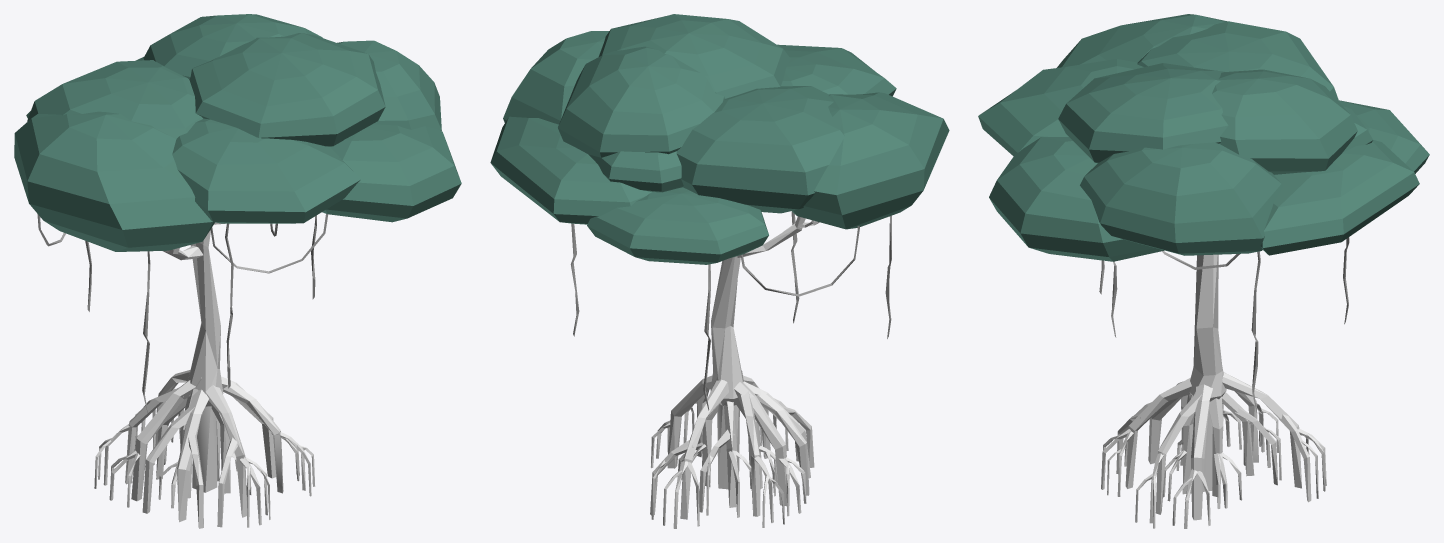
File: arvoreMangueReduzida (1).fbx
The picture shows the model from 3 angles, left to right: view 1: azimuth 30°, elevation 25°; view 2: azimuth 150°, elevation 25°; view 3: azimuth 270°, elevation 25°; orthographic projection. The views are drawn at different scales.
Parts seen in each view (by area): view 1: copa_geo, tronco_geo, raizes_goe, cipo_geo; view 2: copa_geo, tronco_geo, raizes_goe, cipo_geo; view 3: copa_geo, tronco_geo, raizes_goe, cipo_geo.
Boxes of the visible parts, box(x1,y1,x2,y2) form: copa_geo: box(14, 14, 461, 251); tronco_geo: box(131, 222, 276, 522); raizes_goe: box(94, 381, 315, 528); cipo_geo: box(37, 214, 328, 413); copa_geo: box(490, 14, 949, 264); tronco_geo: box(667, 216, 819, 519); raizes_goe: box(650, 390, 814, 528); cipo_geo: box(570, 211, 891, 410); copa_geo: box(978, 14, 1429, 261); tronco_geo: box(1125, 254, 1301, 520); raizes_goe: box(1101, 391, 1326, 528); cipo_geo: box(1099, 237, 1349, 413).
Bounding box in the file's own units: 4.15 × 4.21 × 3.93.
